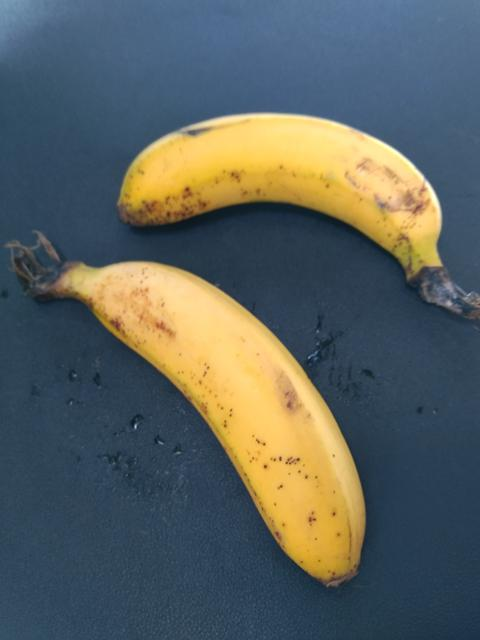ripe: (81, 246, 387, 604), (111, 107, 479, 298)
